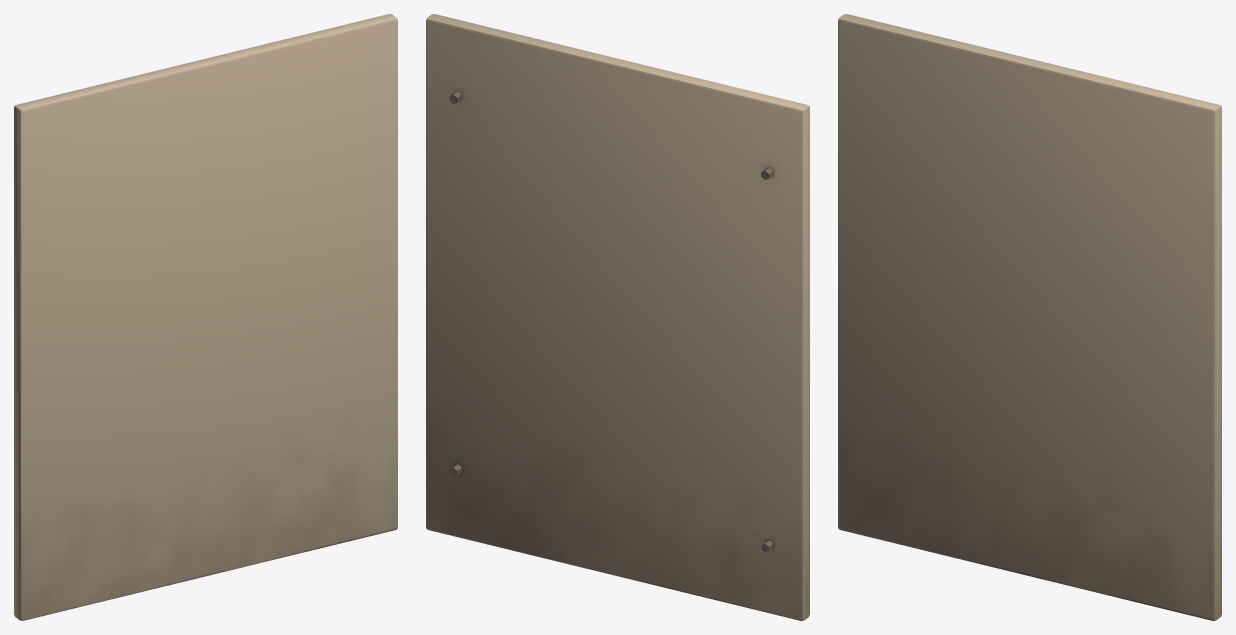
File: broken_window_plank.glb
The picture shows the model from 3 angles, left to right: view 1: azimuth 30°, elevation 25°; view 2: azimuth 150°, elevation 25°; view 3: azimuth 330°, elevation 25°; orthographic projection.
Visible parts, largest first — view 1: broken_window_plank; view 2: broken_window_plank; view 3: broken_window_plank.
Boxes of the visible parts, bbox=[...] form: broken_window_plank: bbox=[14, 14, 397, 620]; broken_window_plank: bbox=[426, 14, 809, 620]; broken_window_plank: bbox=[838, 14, 1221, 620].
Bounding box in the file's own units: 0.68 × 0.88 × 0.0395.
1 material, 1 textured.
